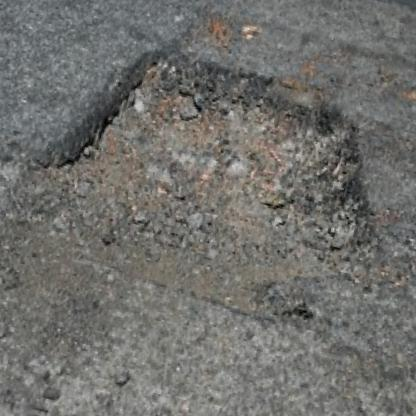pothole: (16, 15, 408, 338)
